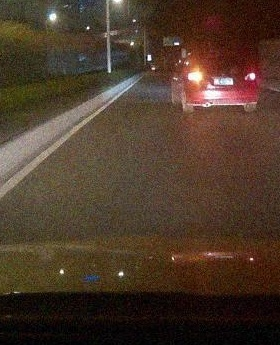L_light: (188, 74, 203, 82)
R_light: (244, 72, 256, 80)
T_light: (214, 54, 228, 58)
night-left: (185, 50, 258, 114)
